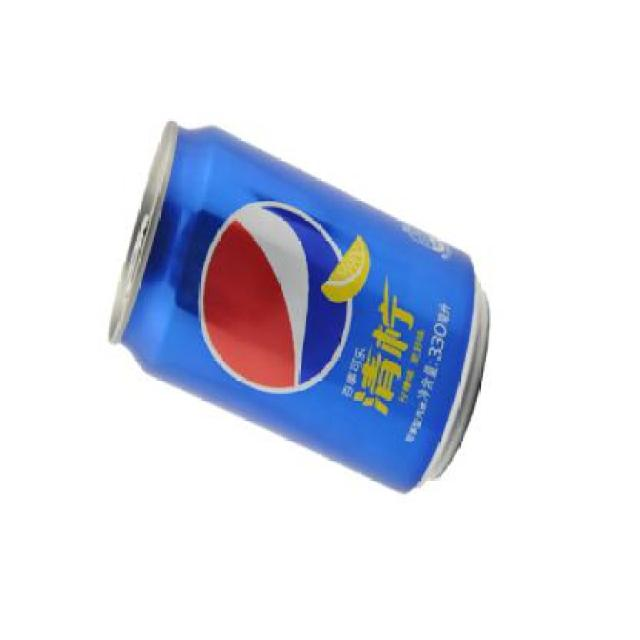Metal: (106, 119, 491, 491)
